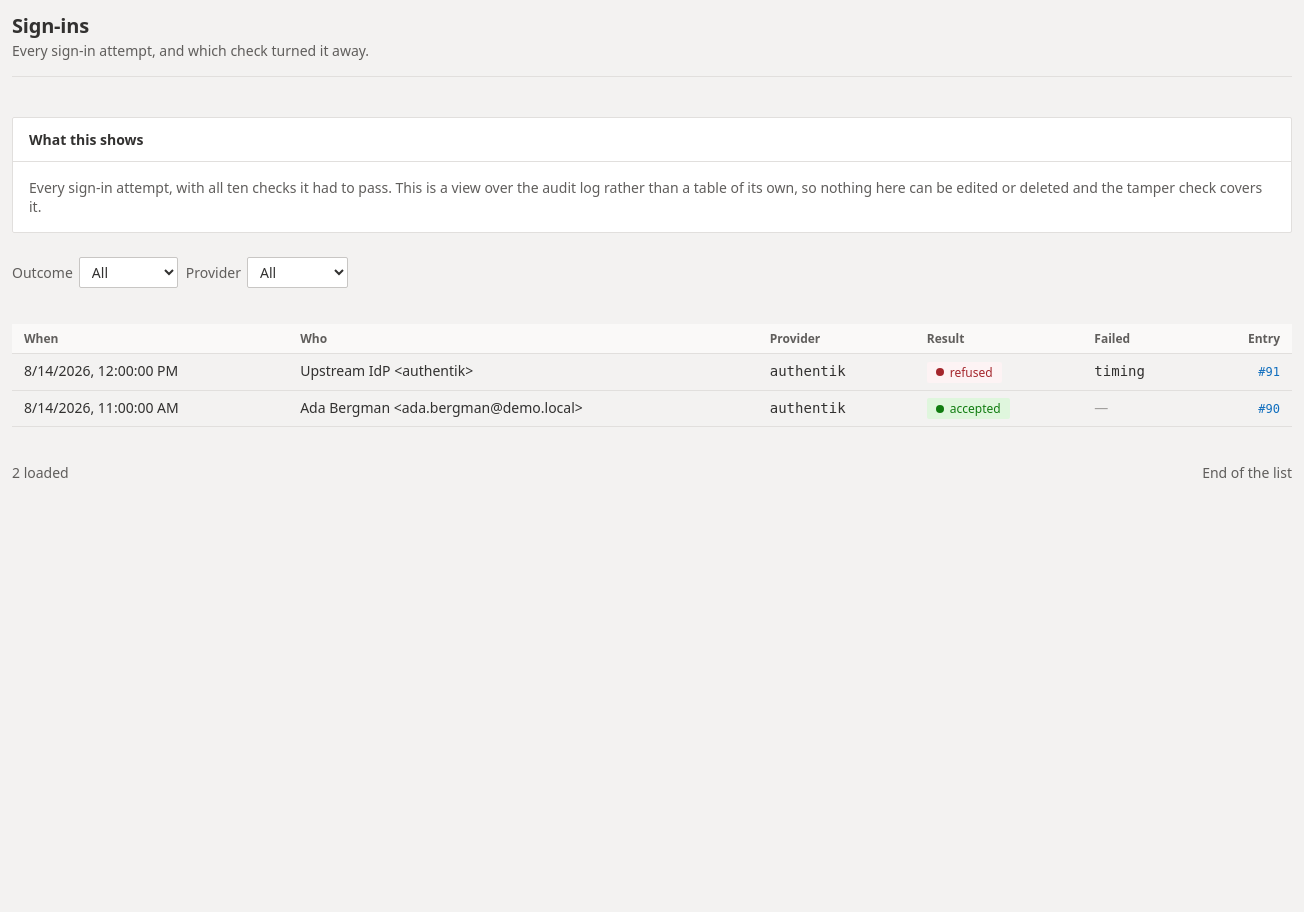
it: expanding an attempt shows every check and why it failed
This screenshot has width=1304, height=912.
Click the button "#91": (1269, 372) x1=1258 y1=365 x2=1280 y2=379
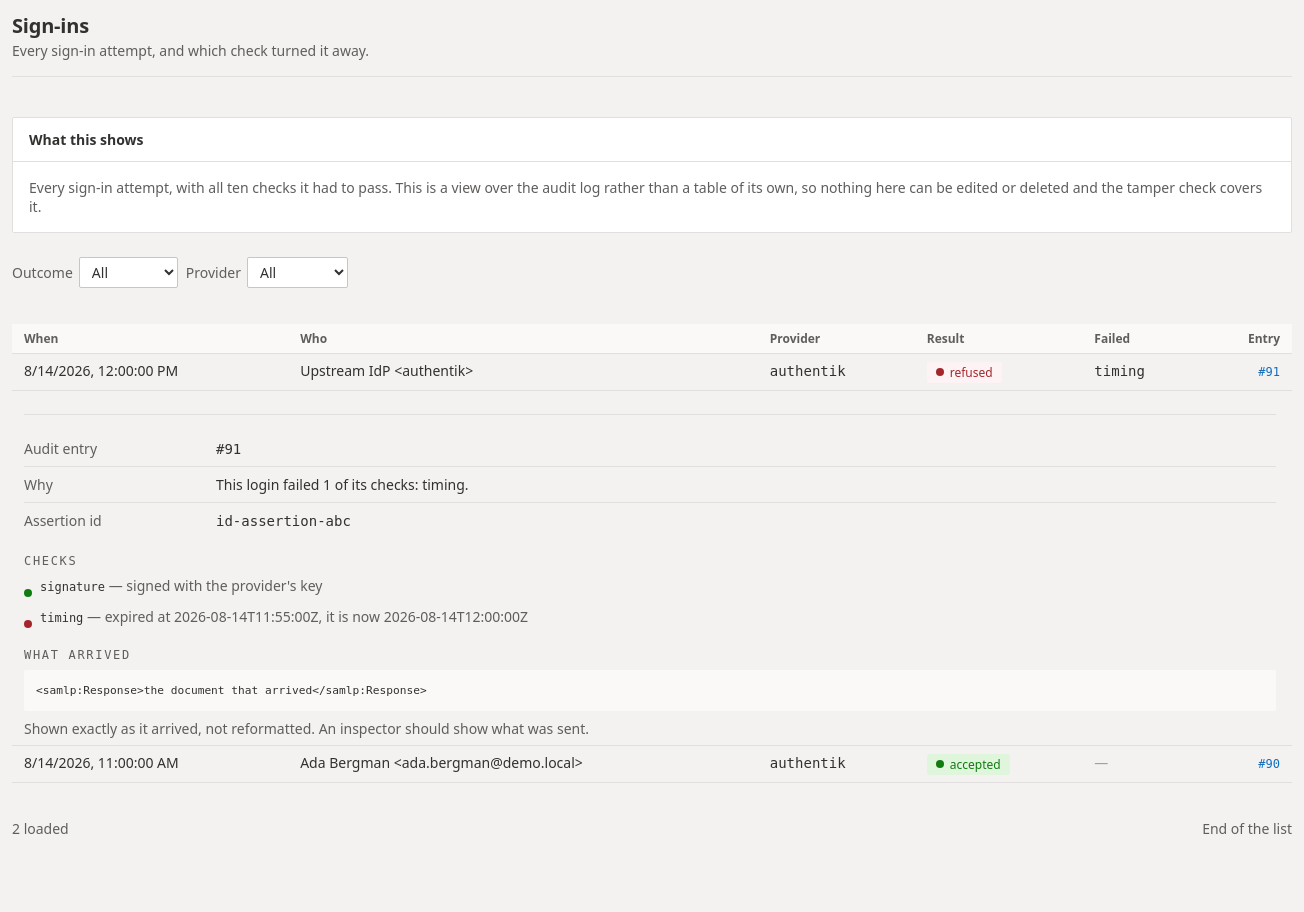
Expected: the text "expired at 2026-08-14T11:55:00Z" is shown, x1=105 y1=606 x2=528 y2=626
Expected: the text "— signed with the provider's key" is shown, x1=105 y1=576 x2=322 y2=594
